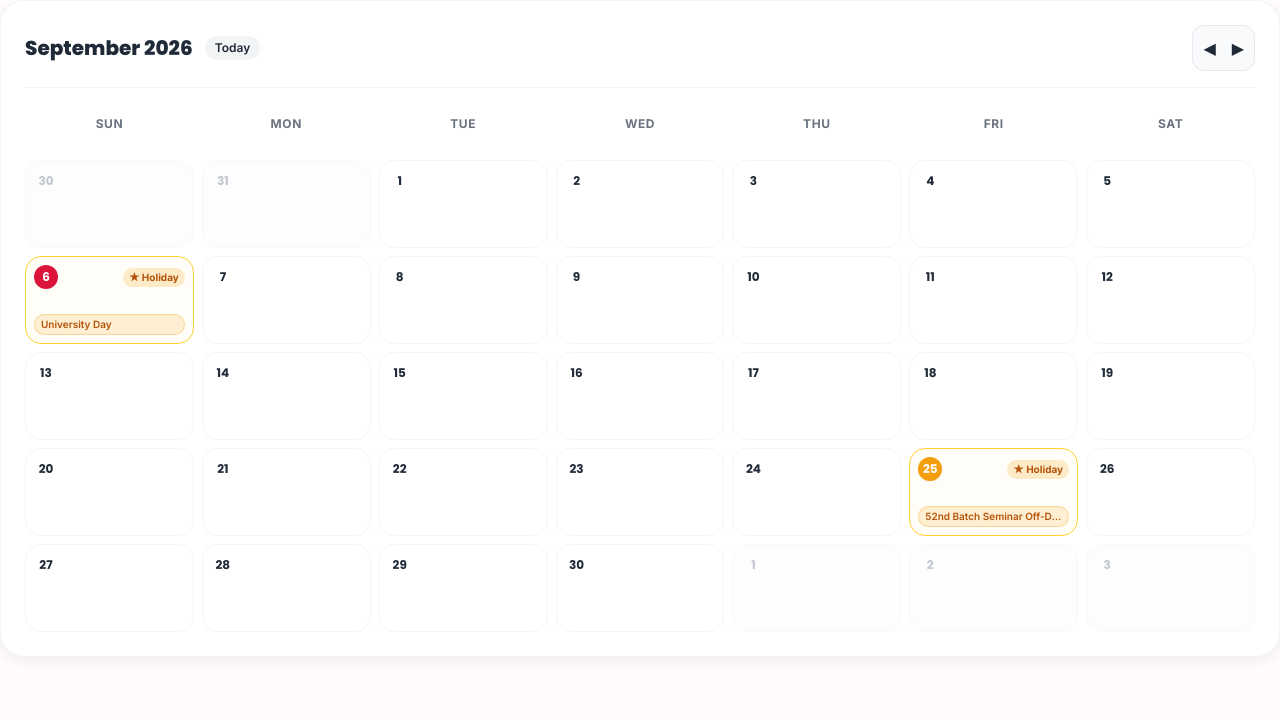
Scenario: HolidayCalendar Component › shows holiday details when a date cell is selected
Click the text "University Day": (109, 324) [34,314,185,335]
(page scrolled)
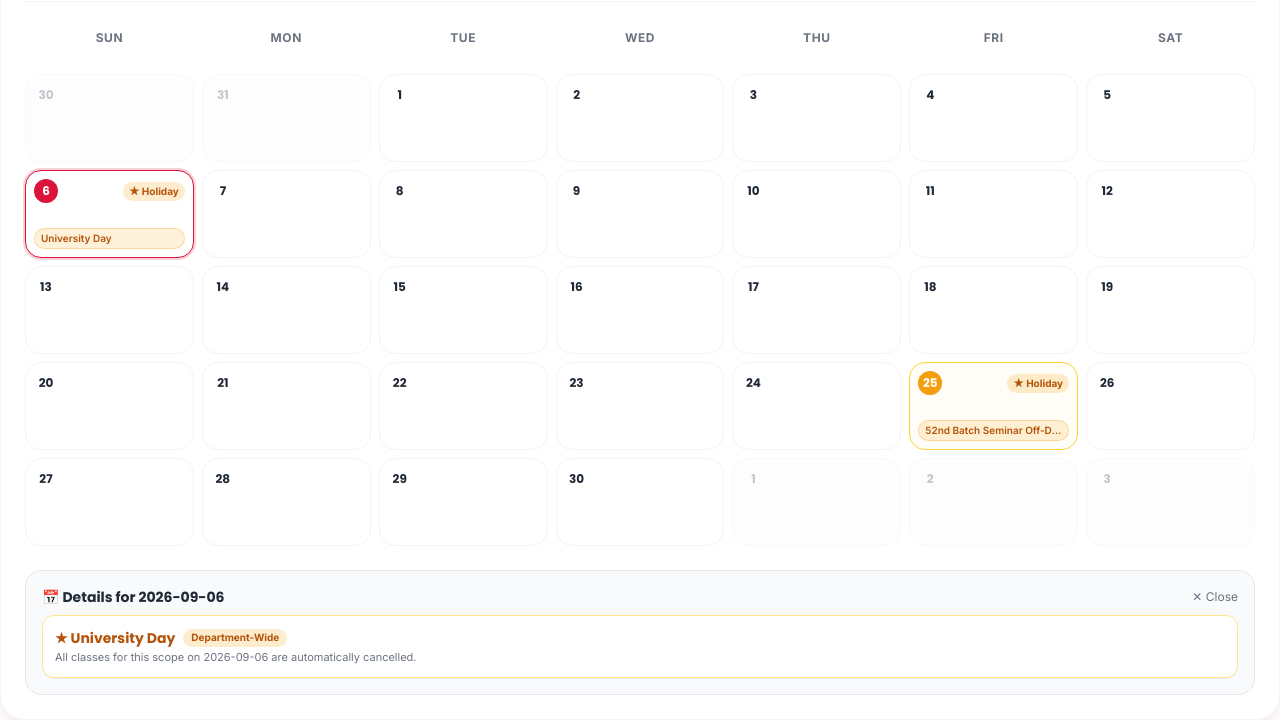
Check: the text "📅 Details for 2026-09-06" is shown, box [42,587,224,607]
Check: the text "Department-Wide" is shown, box [183,629,287,647]
